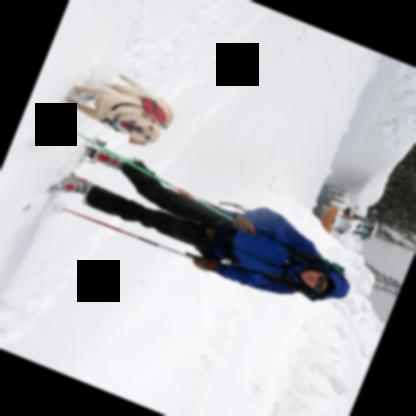backpack: (259, 237, 346, 302)
